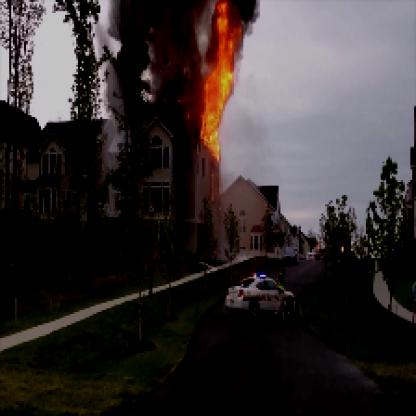Fire: (188, 2, 242, 169)
Smoke: (113, 2, 206, 130)
